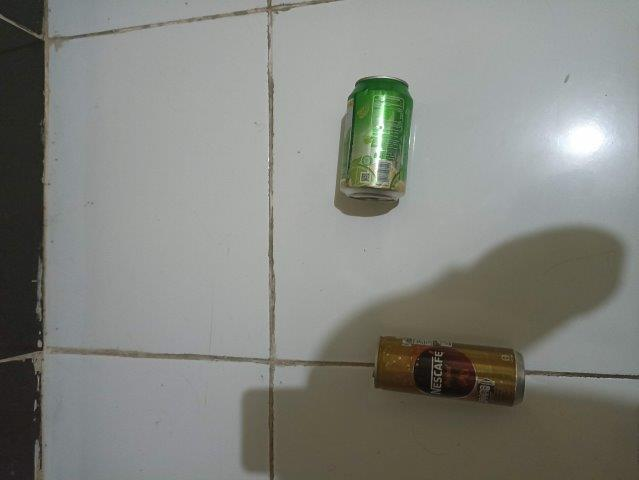kaleng: (373, 334, 526, 407), (339, 75, 414, 202)
